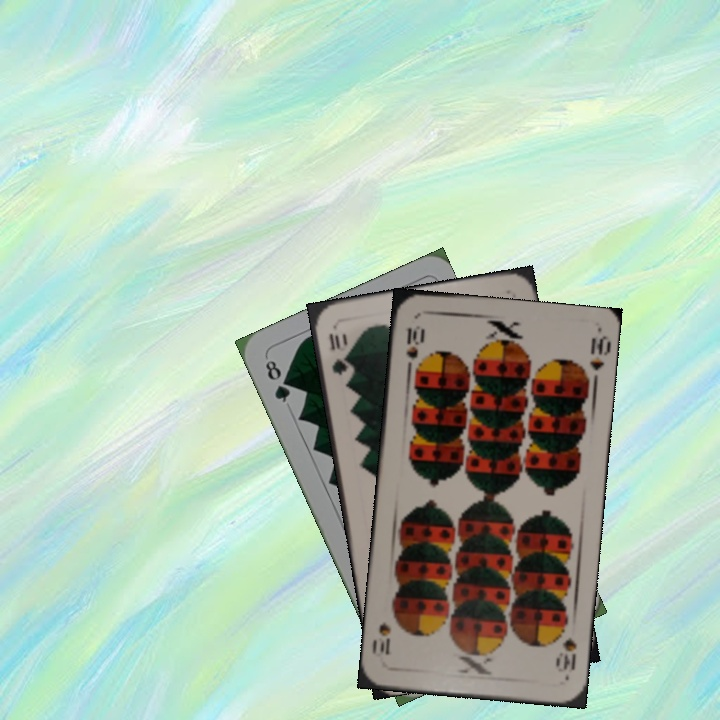G10: (325, 328, 351, 378)
G8: (261, 356, 293, 406)
S10: (402, 322, 425, 374), (553, 634, 579, 673)
